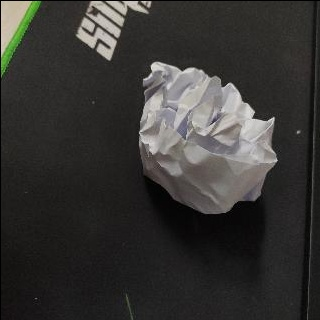8/可回收垃圾/纸: (138, 61, 279, 215)
